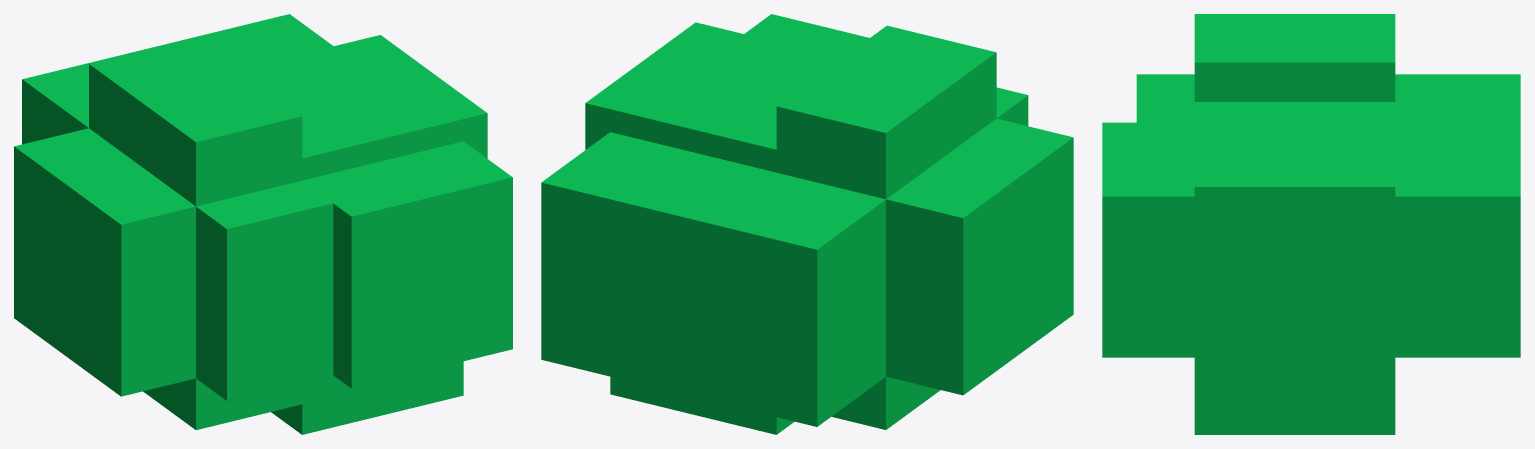
File: TreeHead.fbx
3 views of the same model, side by side, from view 1: azimuth 30°, elevation 25°; view 2: azimuth 150°, elevation 25°; view 3: azimuth 270°, elevation 25° (orthographic). The views are drawn at different scales.
Parts seen in each view (by area): view 1: Pine; view 2: Pine; view 3: Pine.
Boxes of the visible parts, left/top/right/bottom form: Pine: left=14, top=14, right=512, bottom=434; Pine: left=541, top=14, right=1073, bottom=434; Pine: left=1102, top=14, right=1520, bottom=434.
Bounding box in the file's own units: 395 × 328 × 417.
